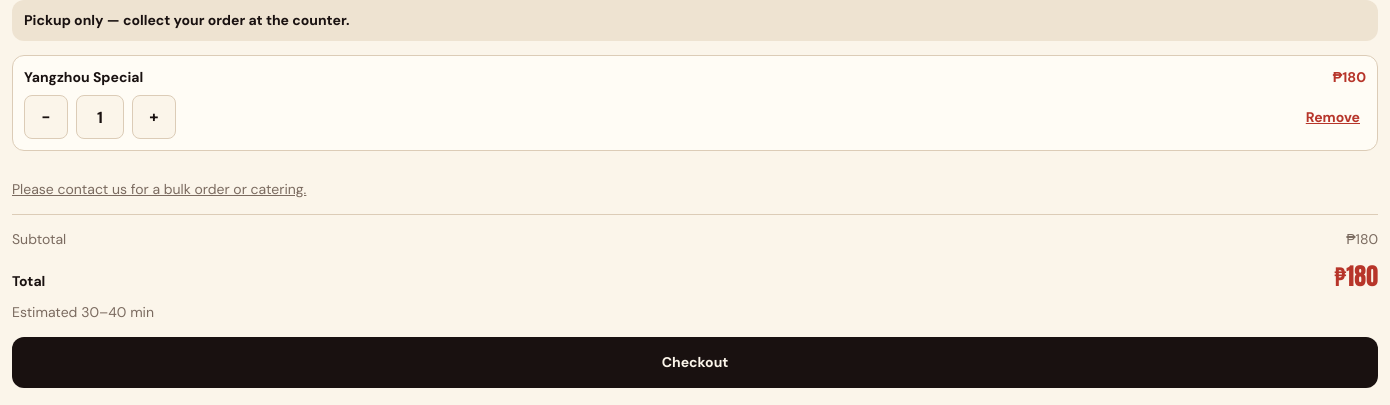
Test: CartLineRow lower bound › removes the line instead of showing zero
The image size is (1390, 405).
What coordinates should you click on to do the following:
click the button named "Decrease quantity"
I would click on:
 (46, 117)
Its box is [24,95,68,139].
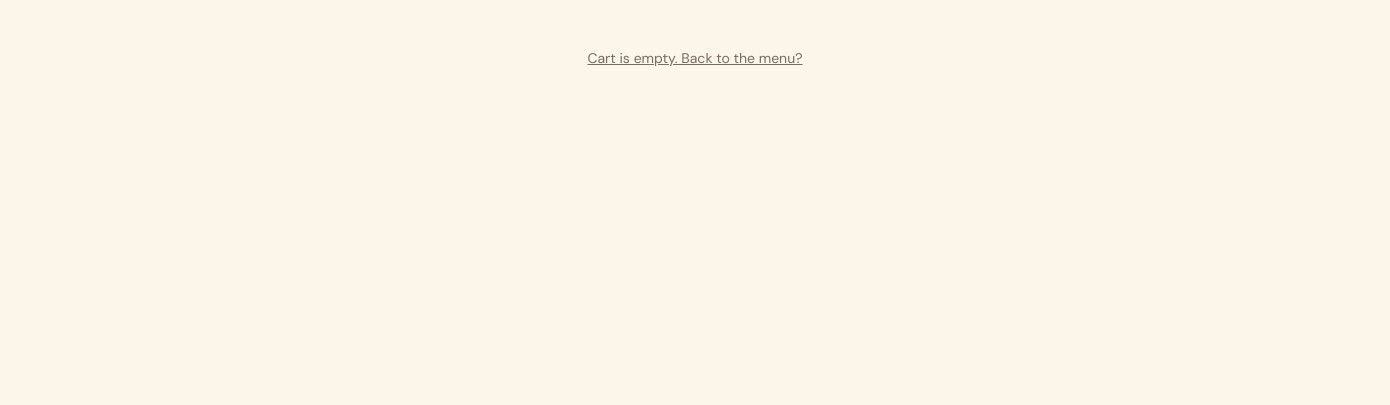
Expected: the text "0" is gone
